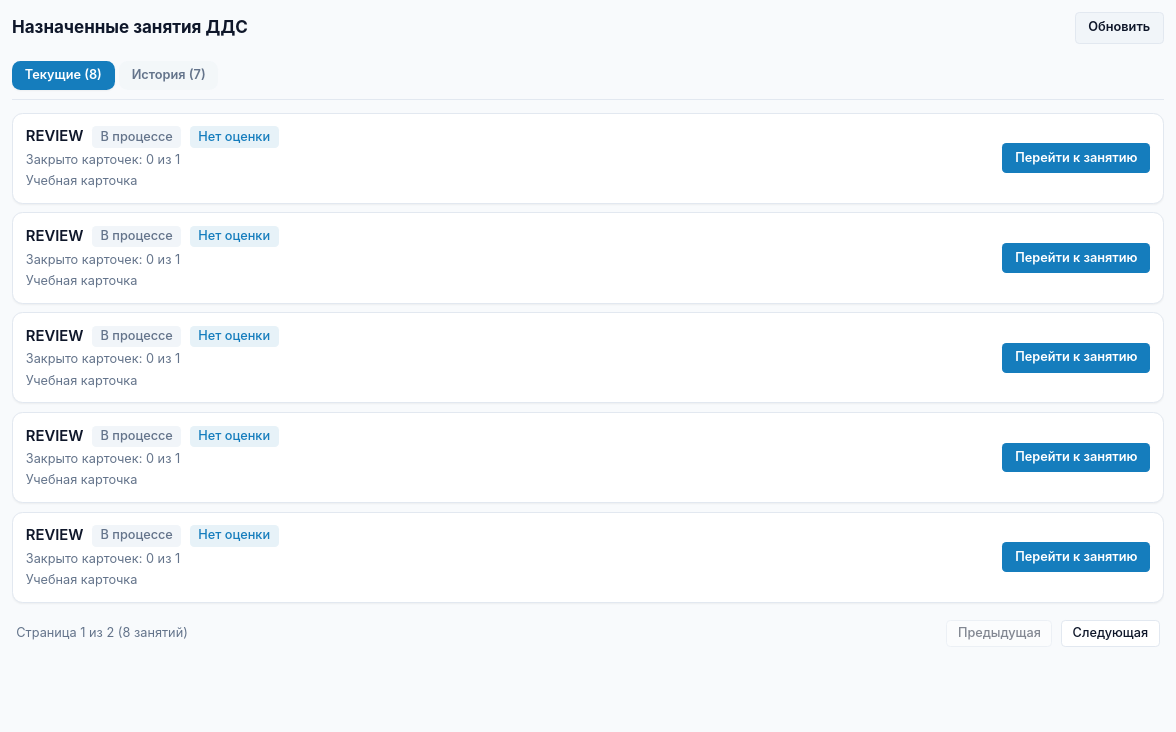
preserves both page selections and the history tab across actual five-second polls
The image size is (1176, 732).
Later steps or results of the test are not shown.
Click the button "Следующая" at point(1110, 634), box [1061,620,1160,647]
Wait 5000 ms
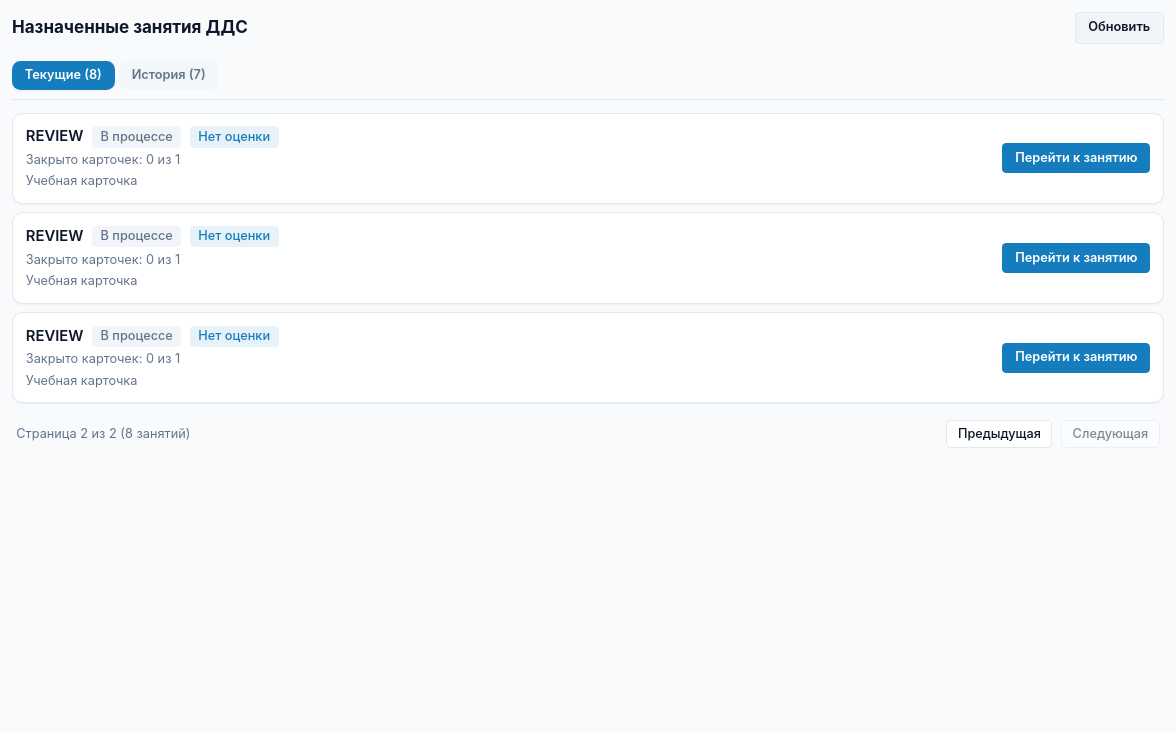
Click the tab "История (7)" at point(169, 76), box [119,61,218,90]
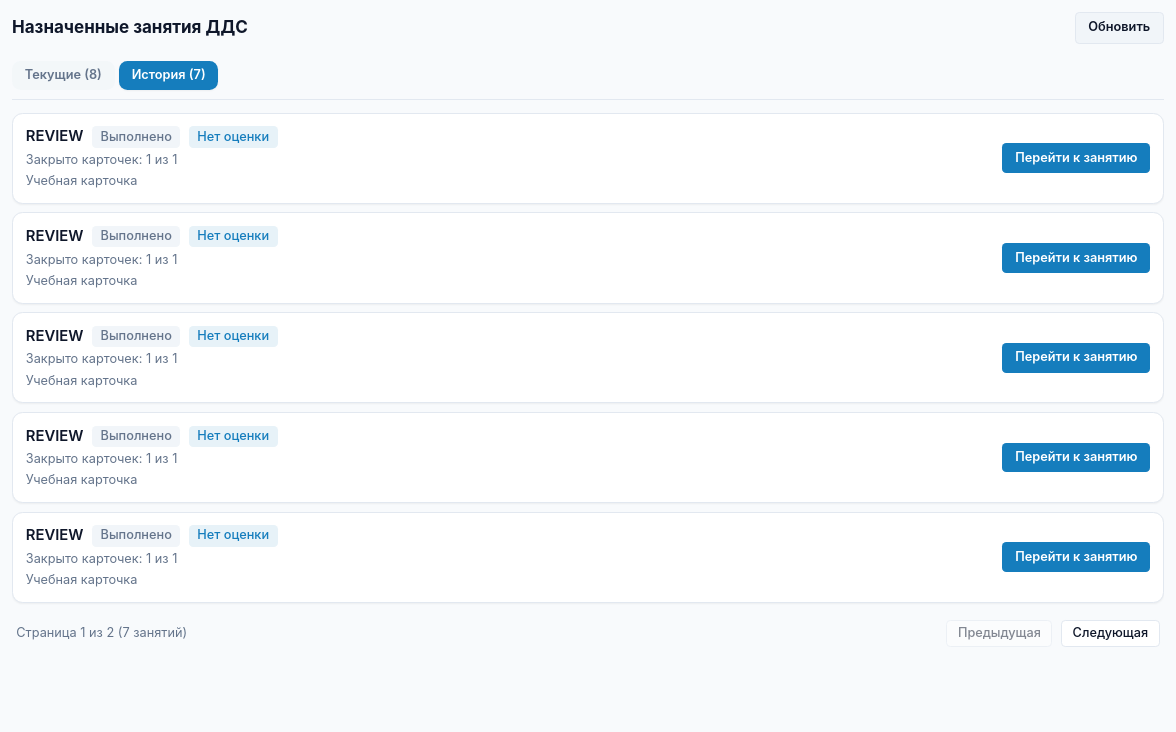
Click the button "Следующая" at point(1110, 634), box [1061,620,1160,647]
Wait 5000 ms
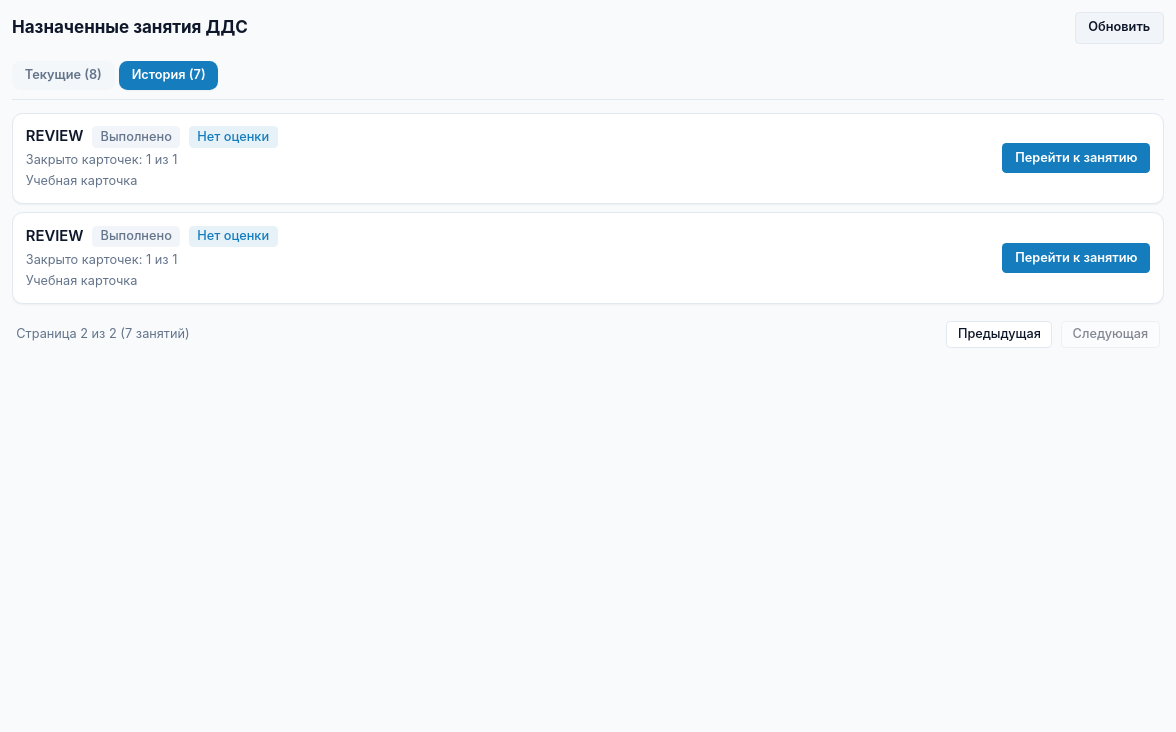
Expected: the tab "История (7)" is selected, [119,61,218,90]
